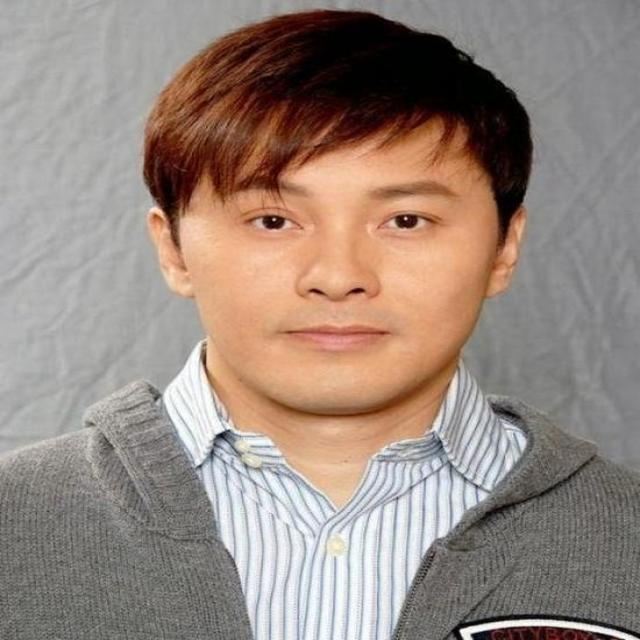Nonhelmet: (138, 7, 536, 427)
